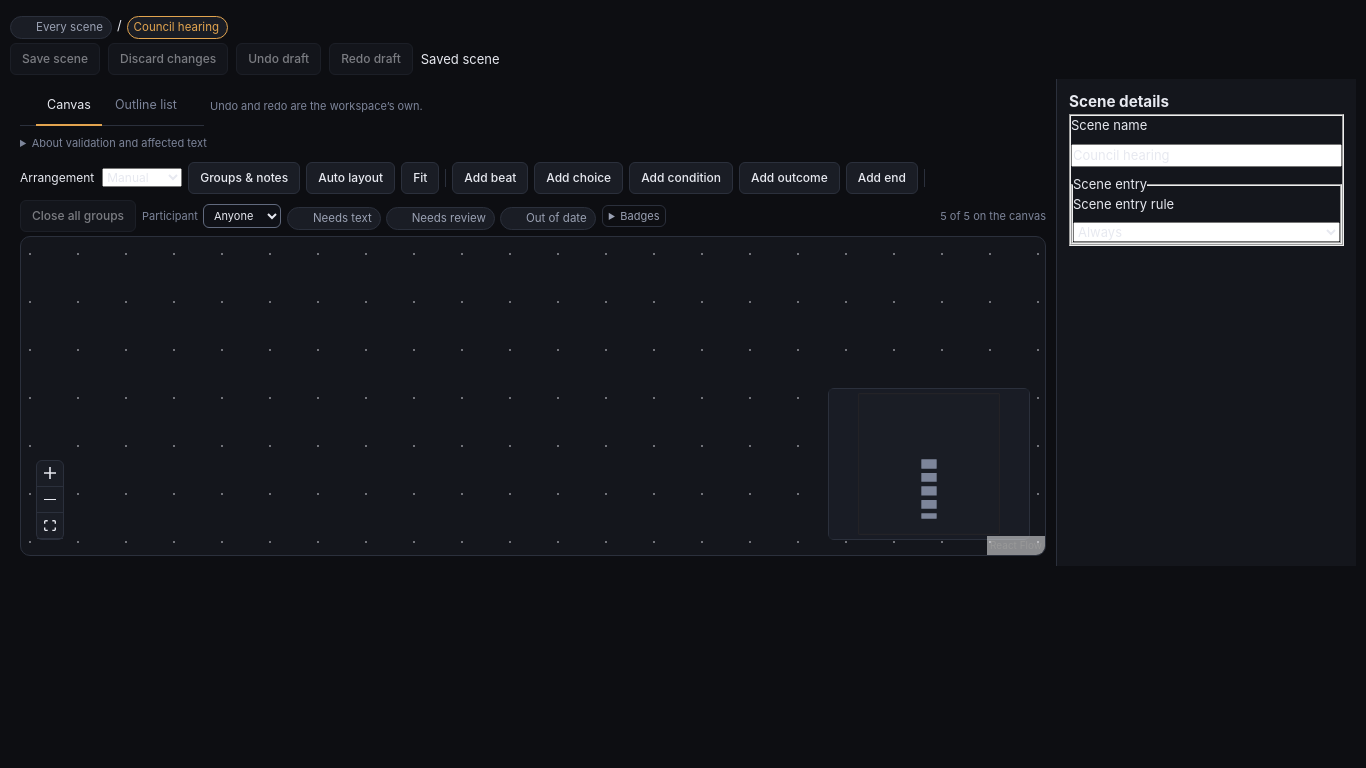
Test: a structural edit cannot lose a line of dialogue › disconnects into an explicit unresolved draft without deleting route content
The width and height of the screenshot is (1366, 768).
Click the button "Outline list". click: (146, 107)
box: [104,87,188,126]
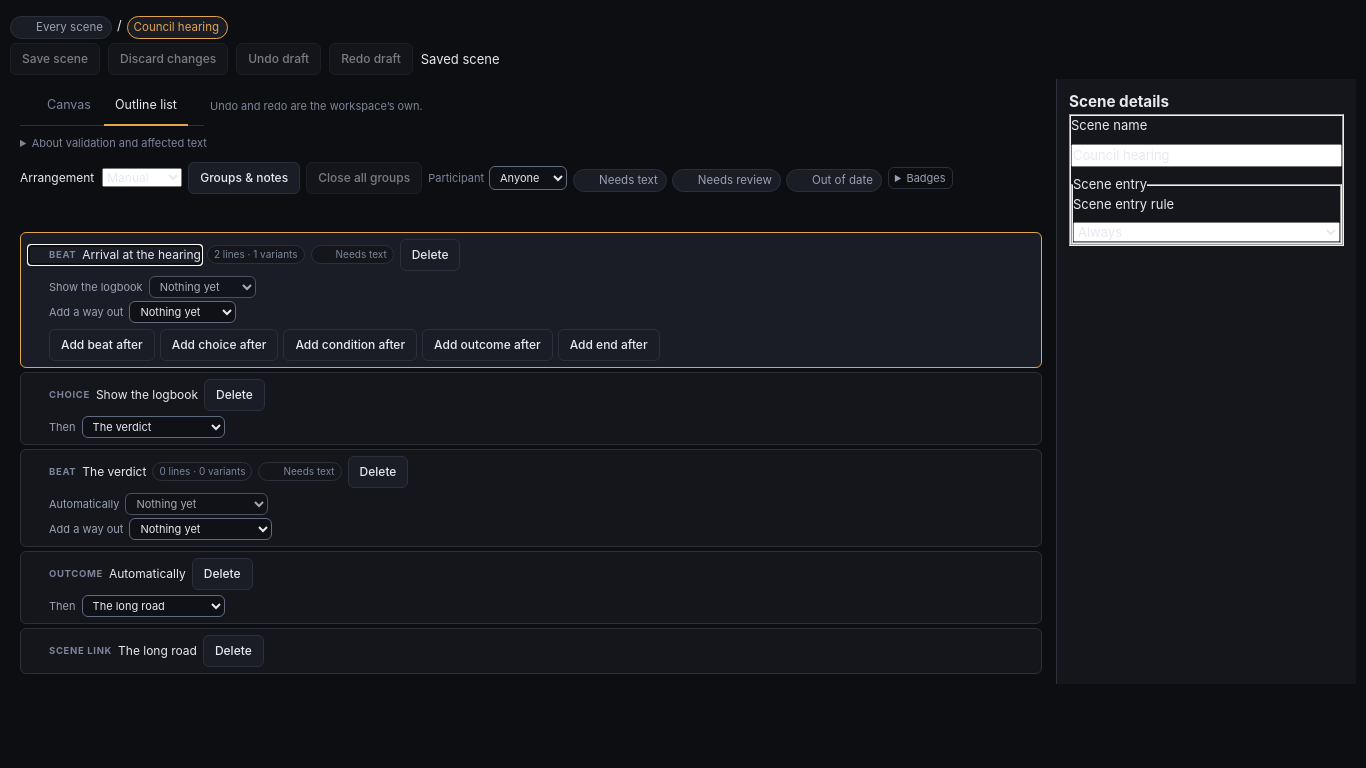
Now the list named "Council hearing outline" is shown, box [20,232,1046,674]
Select "Nothing yet" in the dropdown named "Show the logbook — Then leads to". click: (153, 427)
box: [82,416,224,438]
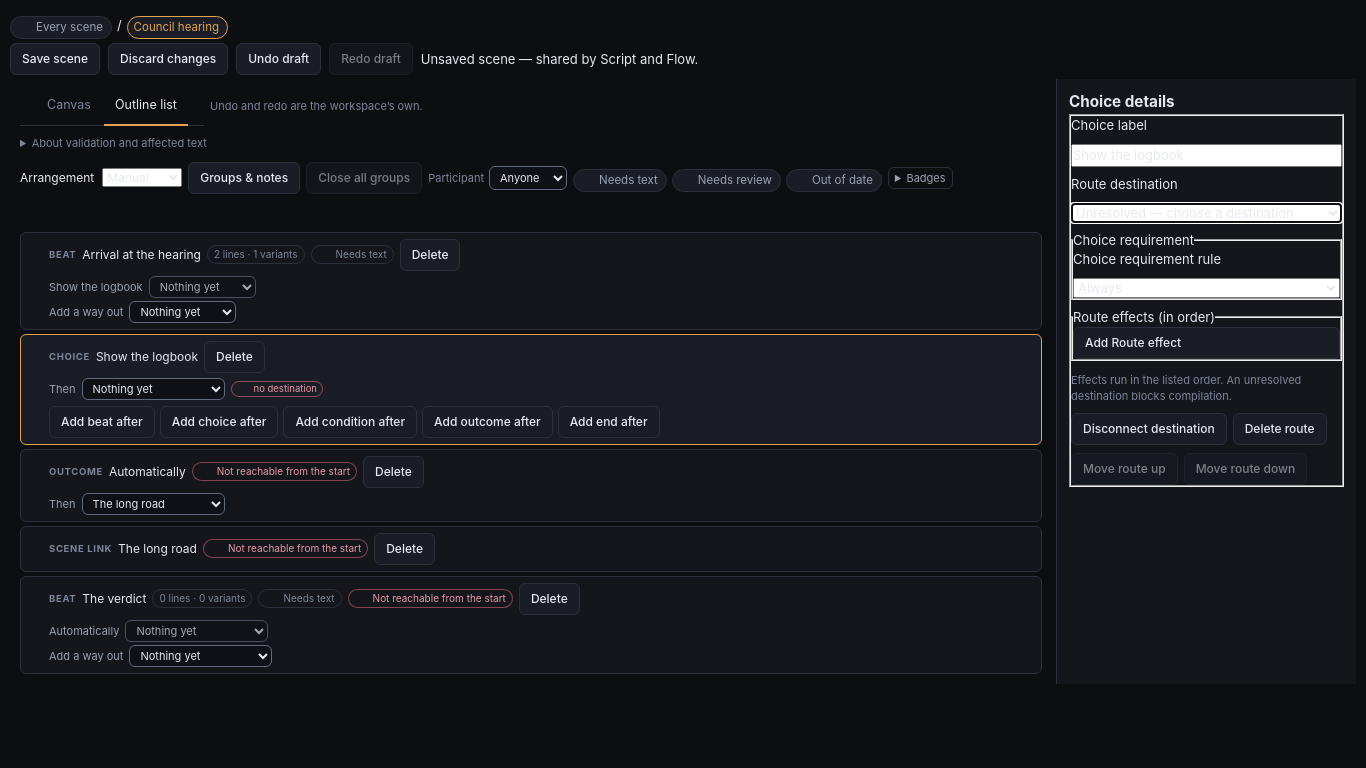
Now the text "Unsaved scene — shared by Script and Flow." is shown, box [421,50,698,69]
